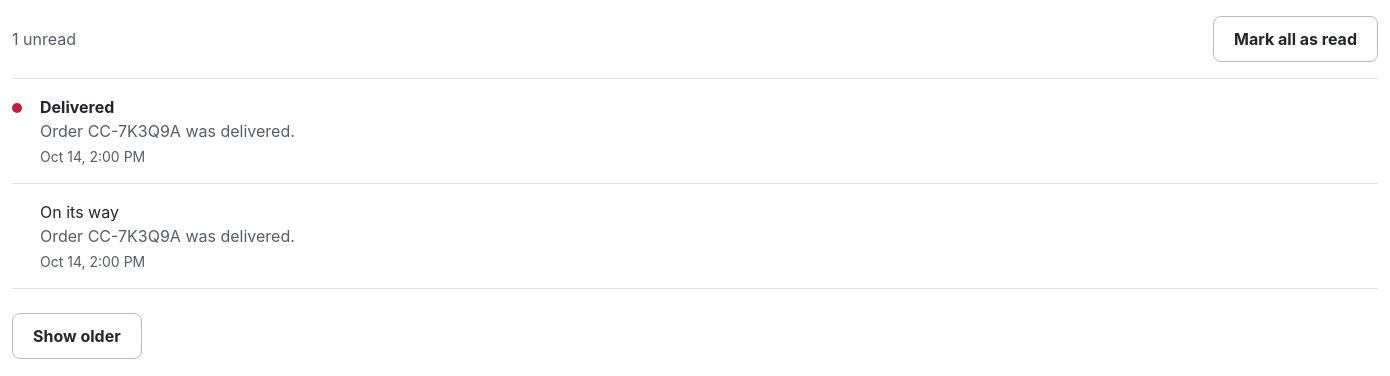
Scenario: inbox › marks all read and refreshes the header badge
Click the button "Mark all as read": click(1296, 39) [1213,16,1378,62]
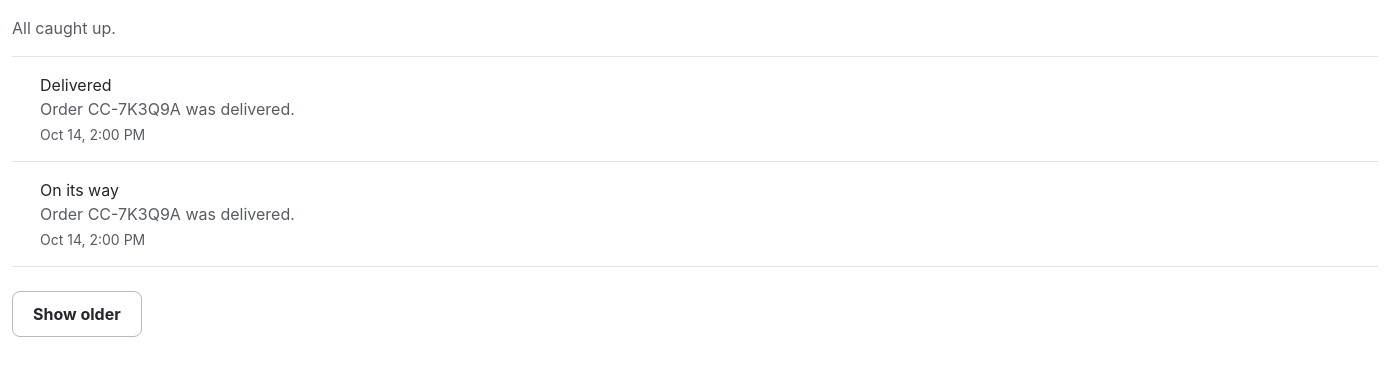
Expected: the button "Mark all as read" is gone
Expected: the text "(unread)" is gone
